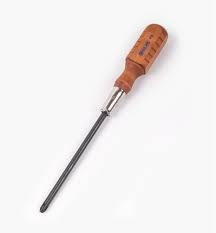hammer: (4, 17, 212, 223)
